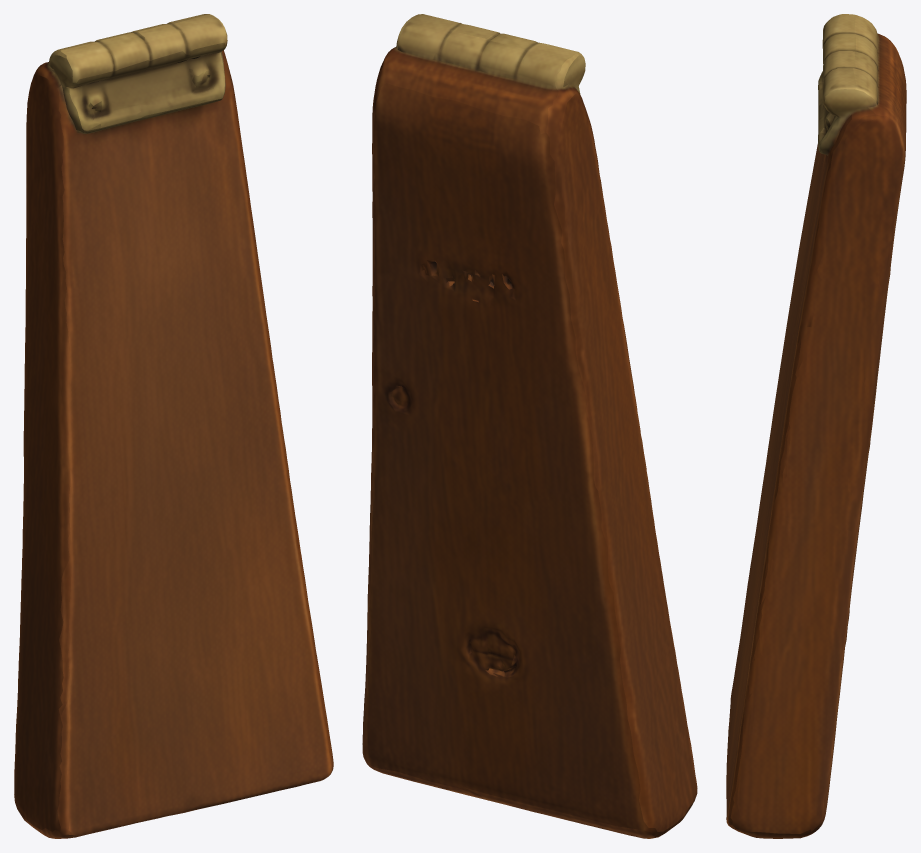
File: glb.glb
3 renders of one model, left to right at view 1: azimuth 30°, elevation 25°; view 2: azimuth 150°, elevation 25°; view 3: azimuth 270°, elevation 25°, orthographic. The views are drawn at different scales.
Visible parts, largest first — view 1: world; view 2: world; view 3: world.
Boxes of the visible parts, left/top/right/bottom form: world: left=14, top=14, right=333, bottom=838; world: left=362, top=14, right=697, bottom=838; world: left=726, top=14, right=906, bottom=838.
Size of the model in its own units: 0.25 by 0.6347 by 0.1425.
1 material, 1 textured.
